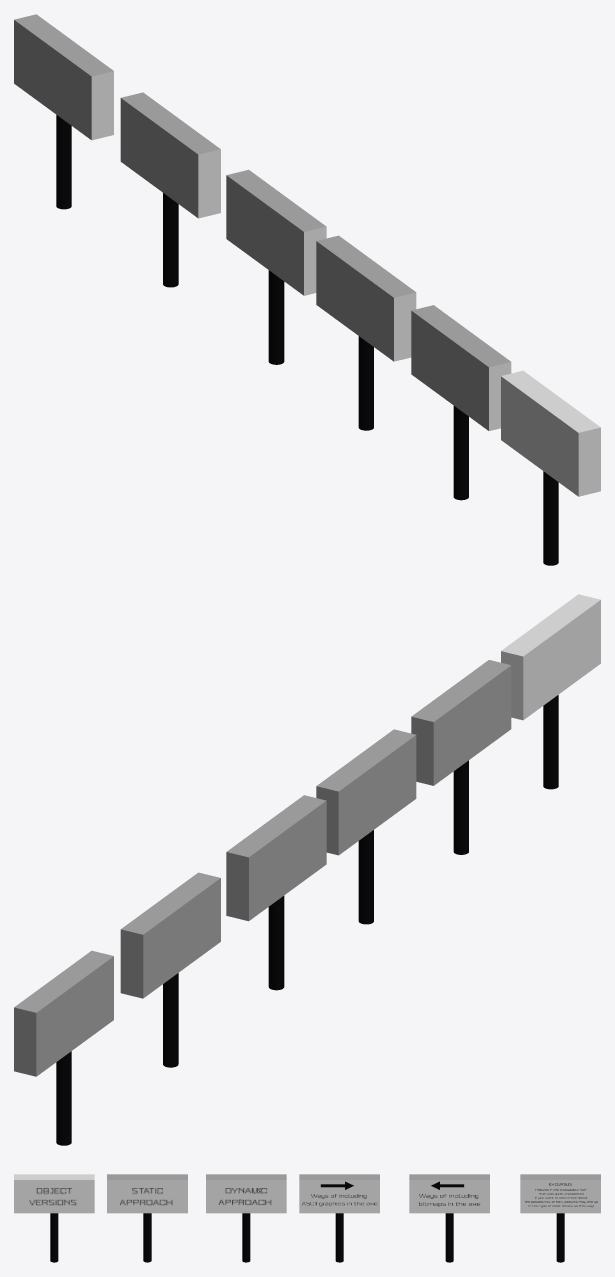
File: path_signs_YANNICK.fbx
3 views of the same model, one above another, from view 1: azimuth 30°, elevation 25°; view 2: azimuth 150°, elevation 25°; view 3: azimuth 270°, elevation 25° (orthographic). The views are drawn at different scales.
Parts seen in each view (by area): view 1: pCube1 (×6), pCylinder1 (×6); view 2: pCube1 (×6), pCylinder1 (×6); view 3: pCube1 (×6), pCylinder1 (×6).
Boxes of the visible parts, <box> form: pCube1 (×6): <box>14,14,600,496</box>; pCylinder1 (×6): <box>56,115,558,565</box>; pCube1 (×6): <box>14,594,600,1076</box>; pCylinder1 (×6): <box>56,695,558,1145</box>; pCube1 (×6): <box>14,1174,600,1213</box>; pCylinder1 (×6): <box>50,1213,564,1262</box>.
Size of the model in its own units: 1 by 6.84 by 43.54.
